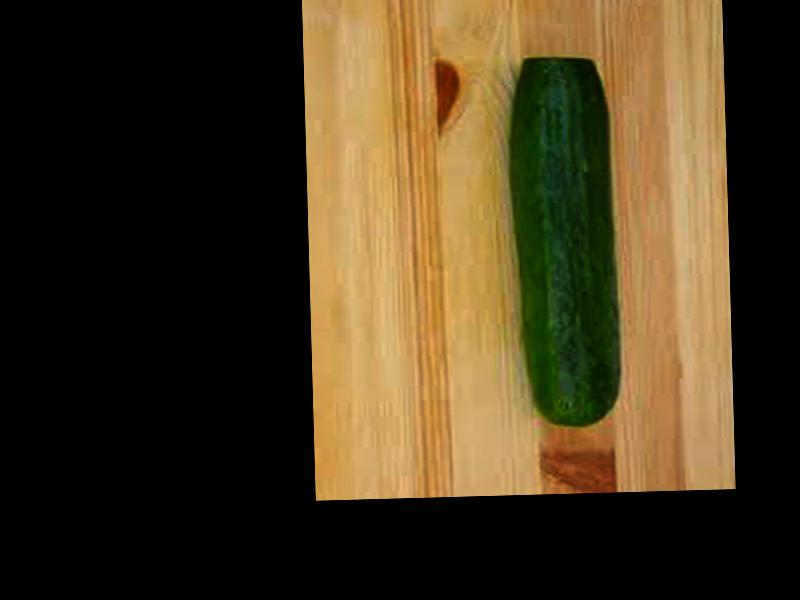Cucumber: (510, 57, 621, 428)
